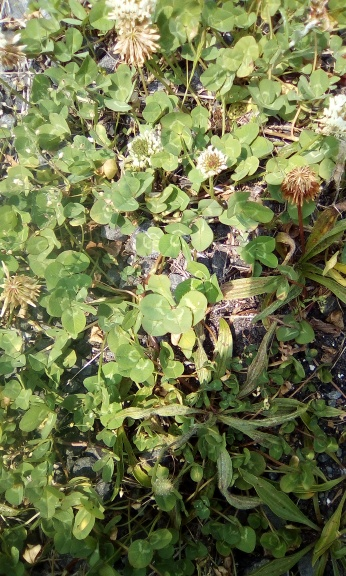4leaf: (139, 274, 207, 338)
